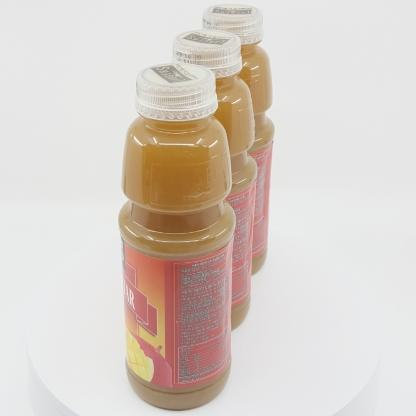-----449ML: (119, 63, 236, 410), (165, 29, 259, 332)
